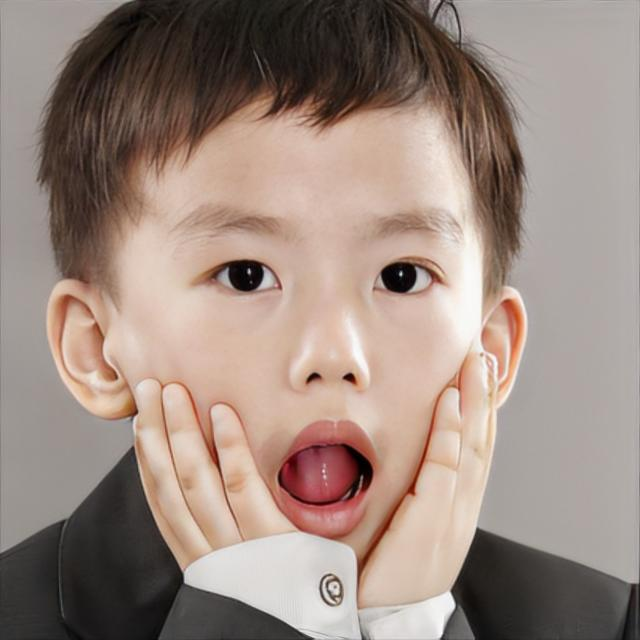surprise: (114, 89, 487, 587)
